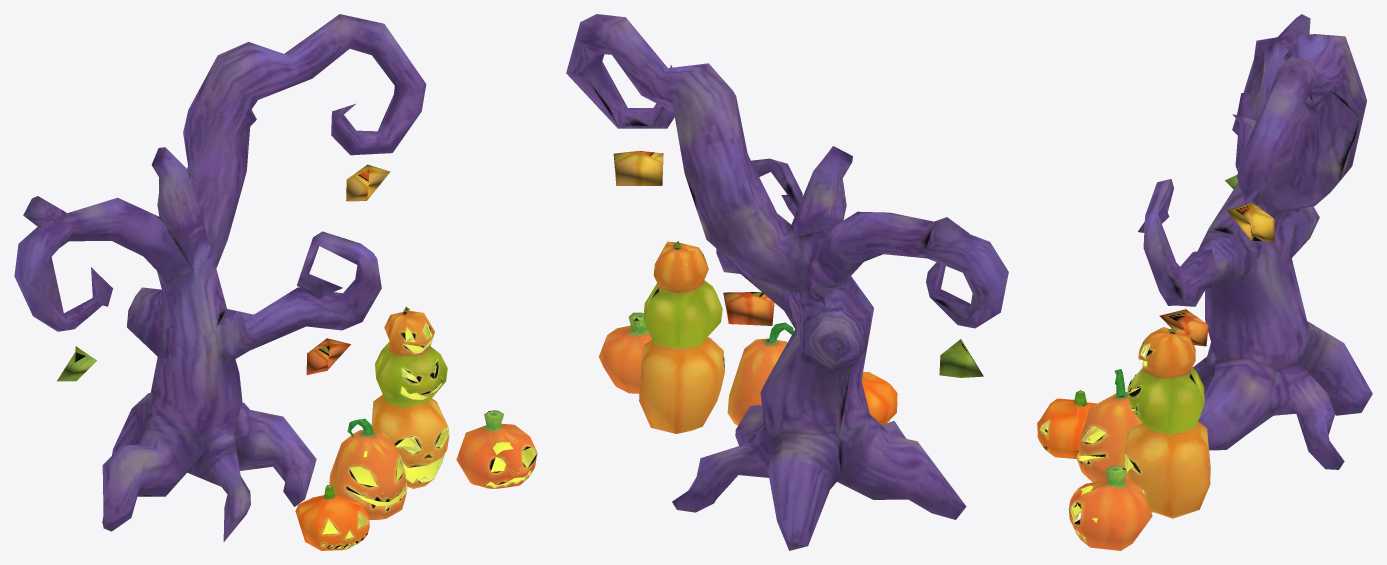
Rendered from jack-o-lantern-tree.lod.glb.
3 renders of one model, left to right at view 1: azimuth 30°, elevation 25°; view 2: azimuth 150°, elevation 25°; view 3: azimuth 270°, elevation 25°, orthographic. The views are drawn at different scales.
Visible parts, largest first — view 1: Jack_tree_Jack_tree_0, jack_tower_jack_tower_0, Jack_o_lerntern_long_Jack_o_lerntern_long_0, Jack_o_lerntern_Jack_o_lerntern_0, Jack_o_lerntern_oblong_Jack_o_lerntern_oblong_0, Jack_tree_pumpkin_Jack_tree_pumpkin_0; view 2: Jack_tree_Jack_tree_0, jack_tower_jack_tower_0, Jack_tree_pumpkin_Jack_tree_pumpkin_0, Jack_o_lerntern_long_Jack_o_lerntern_long_0, Jack_o_lerntern_Jack_o_lerntern_0, Jack_o_lerntern_oblong_Jack_o_lerntern_oblong_0; view 3: Jack_tree_Jack_tree_0, jack_tower_jack_tower_0, Jack_o_lerntern_Jack_o_lerntern_0, Jack_o_lerntern_long_Jack_o_lerntern_long_0, Jack_o_lerntern_oblong_Jack_o_lerntern_oblong_0, Jack_tree_pumpkin_Jack_tree_pumpkin_0.
Part boxes in pixels (bbox=[...]): Jack_tree_Jack_tree_0: bbox=[14, 14, 426, 541]; jack_tower_jack_tower_0: bbox=[371, 306, 449, 488]; Jack_o_lerntern_long_Jack_o_lerntern_long_0: bbox=[329, 418, 407, 519]; Jack_o_lerntern_Jack_o_lerntern_0: bbox=[456, 410, 537, 488]; Jack_o_lerntern_oblong_Jack_o_lerntern_oblong_0: bbox=[295, 485, 369, 550]; Jack_tree_pumpkin_Jack_tree_pumpkin_0: bbox=[57, 164, 390, 381]; Jack_tree_Jack_tree_0: bbox=[566, 14, 1008, 550]; jack_tower_jack_tower_0: bbox=[639, 241, 724, 433]; Jack_tree_pumpkin_Jack_tree_pumpkin_0: bbox=[613, 151, 983, 377]; Jack_o_lerntern_long_Jack_o_lerntern_long_0: bbox=[727, 322, 793, 425]; Jack_o_lerntern_Jack_o_lerntern_0: bbox=[599, 312, 651, 393]; Jack_o_lerntern_oblong_Jack_o_lerntern_oblong_0: bbox=[861, 372, 897, 424]; Jack_tree_Jack_tree_0: bbox=[1135, 14, 1372, 469]; jack_tower_jack_tower_0: bbox=[1124, 327, 1210, 518]; Jack_o_lerntern_Jack_o_lerntern_0: bbox=[1068, 465, 1152, 550]; Jack_o_lerntern_long_Jack_o_lerntern_long_0: bbox=[1076, 369, 1142, 482]; Jack_o_lerntern_oblong_Jack_o_lerntern_oblong_0: bbox=[1037, 390, 1096, 458]; Jack_tree_pumpkin_Jack_tree_pumpkin_0: bbox=[1159, 175, 1274, 346].
Bounding box in the file's own units: 5.23 × 4.85 × 3.25.
6 materials, 6 textured.
